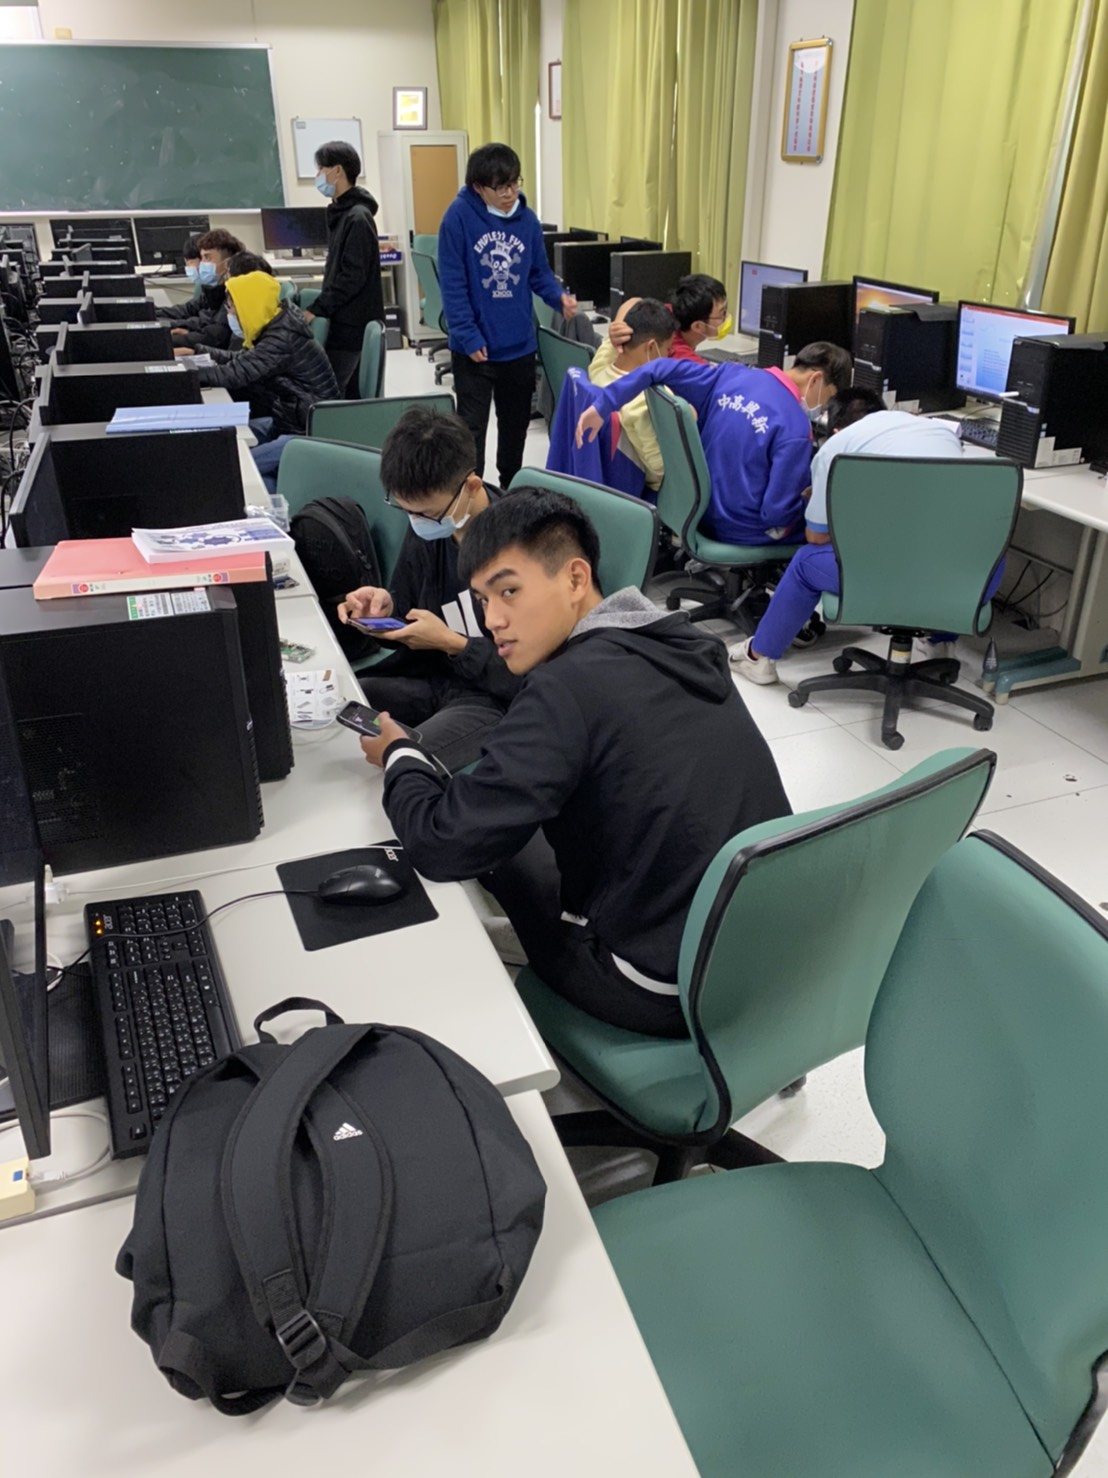people: (464, 512, 790, 1019), (840, 397, 988, 628), (455, 154, 545, 473), (378, 435, 488, 678), (702, 343, 826, 550), (290, 145, 381, 357), (224, 293, 326, 438), (602, 309, 667, 457), (195, 233, 238, 285)
